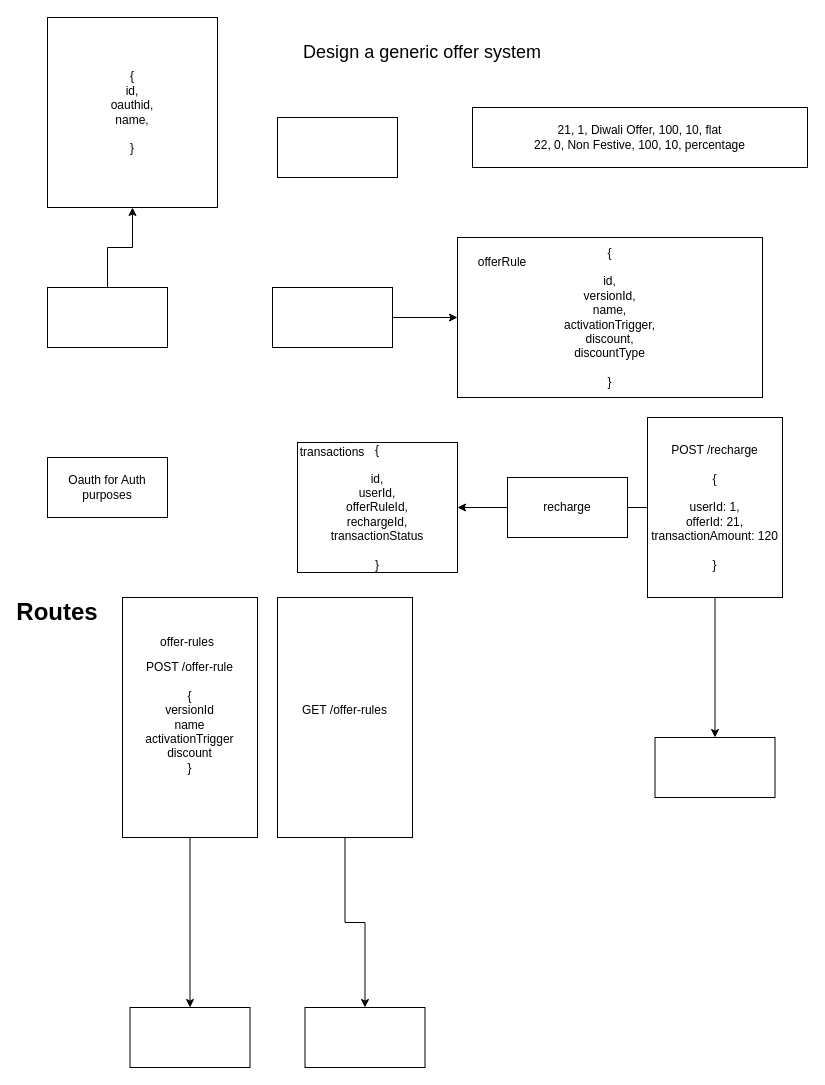
This 825x1085 diagram has some shape labels left out. Here are the shapes that lost their labels. From the top down, the centre of each, then its label:
(107,317): User
(332,317): Offer Rule
(714,767): recordsId
(189,1037): 201 offerRuleId
(364,1037): [{ offerRule }]
